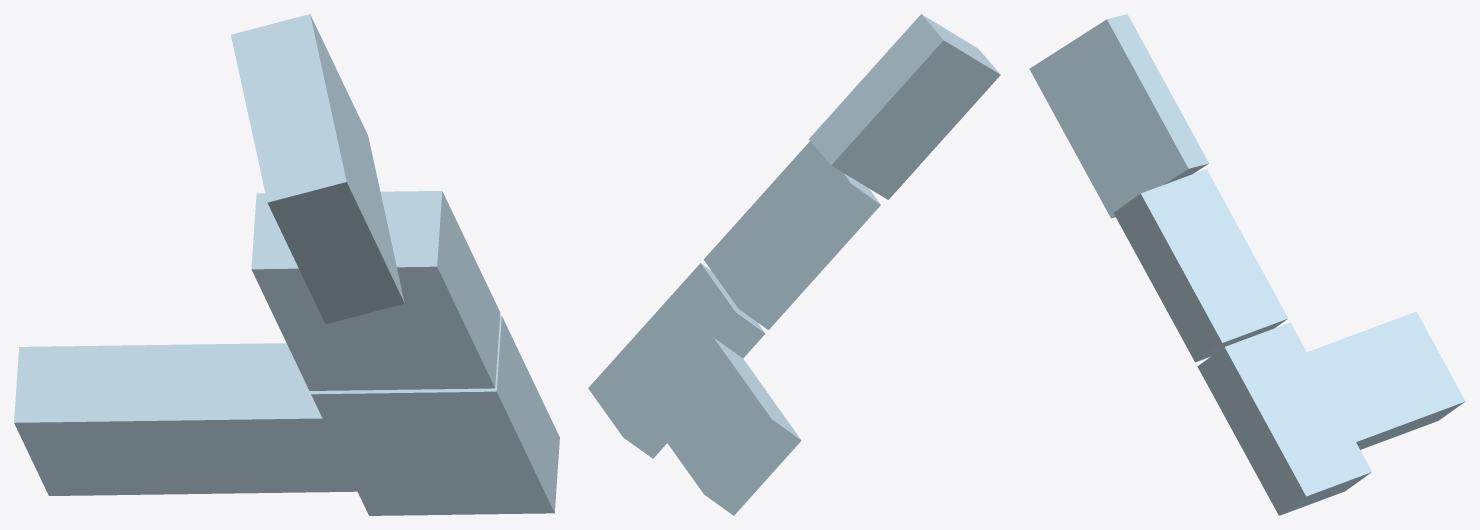
File: boiboites [138].gltf
3 views of the same model, side by side, from view 1: azimuth 30°, elevation 25°; view 2: azimuth 150°, elevation 25°; view 3: azimuth 270°, elevation 25° (orthographic). The views are drawn at different scales.
Visible parts, largest first — view 1: Part 1 (×4); view 2: Part 1 (×4); view 3: Part 1 (×4).
Part boxes in pixels (x1,y1,x2,y2): Part 1 (×4): (14, 14, 559, 515); Part 1 (×4): (588, 14, 1000, 515); Part 1 (×4): (1029, 14, 1465, 515).
Size of the model in its own units: 0.2262 by 0.299 by 0.2968.
